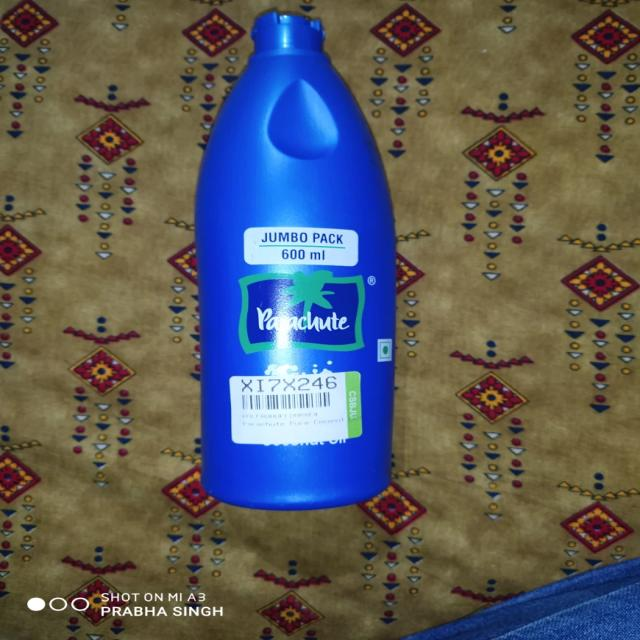parachute_oil: (188, 7, 400, 514)
